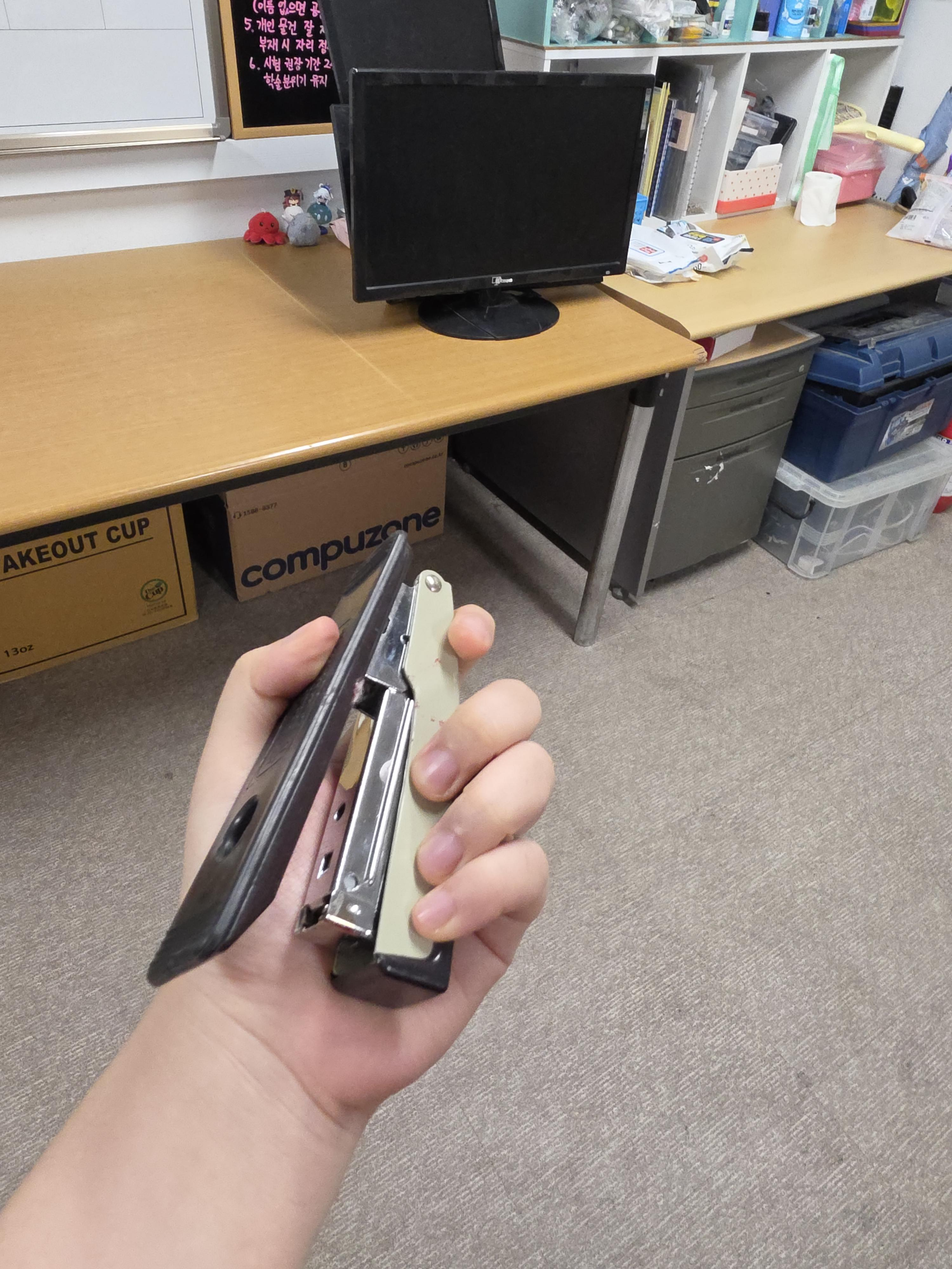stapler: (148, 530, 461, 1008)
tissue: (798, 171, 843, 227)
